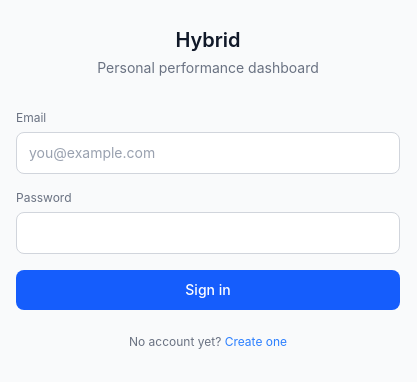
Test: LoginPage › shows the error message and does not navigate when sign-in fails
This screenshot has width=417, height=382.
Type "slade@example.com" into the field with placeholder "you@example.com" at x=208, y=153, box 16,132 -> 400,174
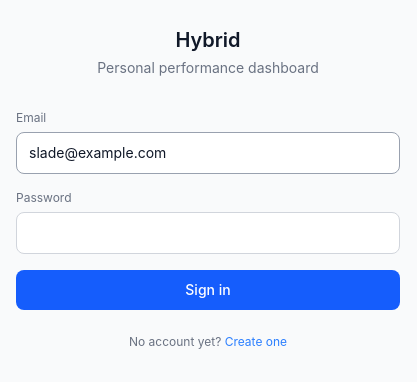
Type "wrongpass" into the password field at x=208, y=233, box 16,212 -> 400,254
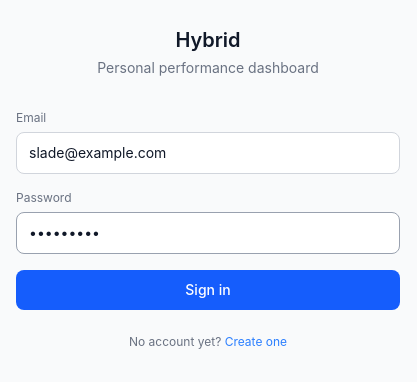
Click the button "Sign in" at x=208, y=290, box 16,270 -> 400,310
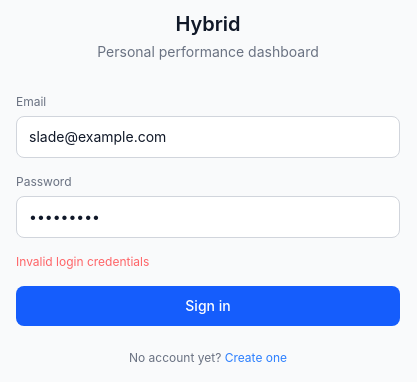
Expected: the text "Invalid login credentials" is shown, 16,254 -> 149,269
